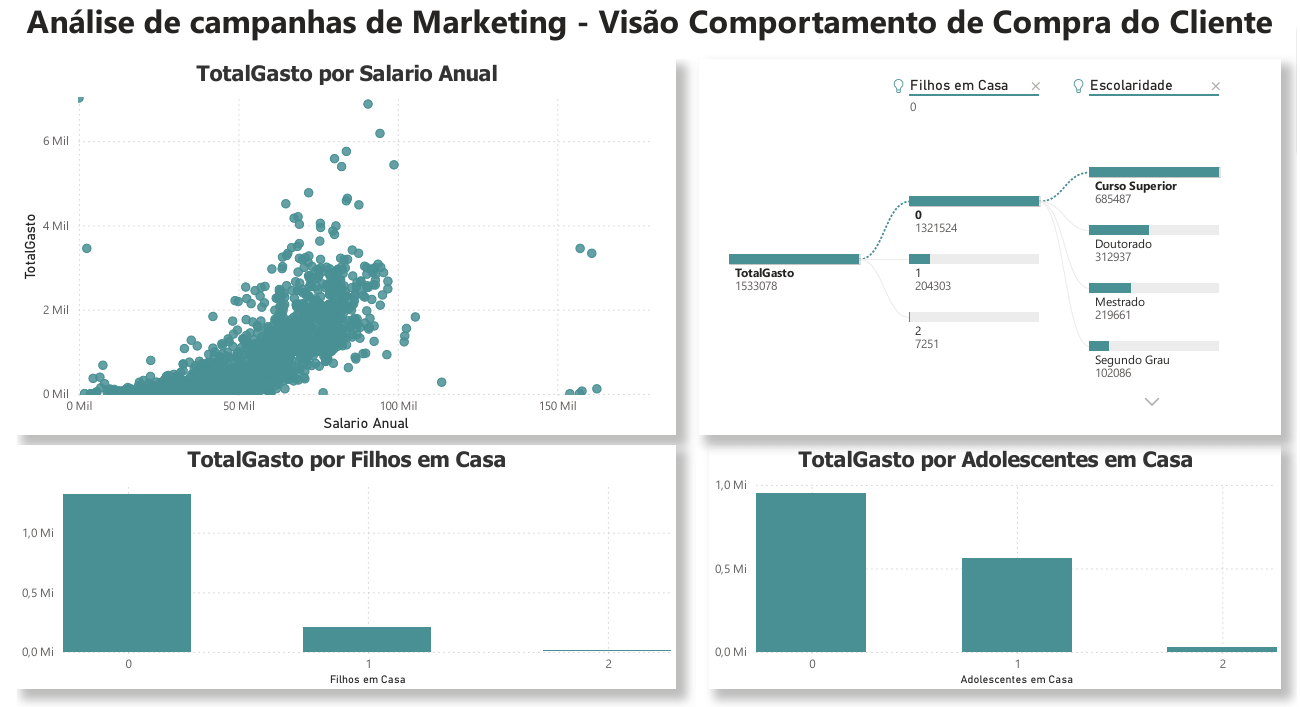

What the dashboard file says about the page in this screenshot:
{"tool":"powerbi","page":{"name":"Visão Comportamento","canvas":[1280,720],"ordinal":1},"visuals":[{"type":"scatterChart","fields":{"Y":["DadosMarketing.TotalGasto"],"X":["DadosMarketing.Salario Anual"]},"box":[0,68.3,660.1,375.8],"z":0},{"type":"clusteredColumnChart","fields":{"Y":["DadosMarketing.TotalGasto"],"Category":["DadosMarketing.Filhos em Casa"]},"box":[0,453.9,660.1,244],"z":1000},{"type":"clusteredColumnChart","fields":{"Y":["DadosMarketing.TotalGasto"],"Category":["DadosMarketing.Adolescentes em Casa"]},"box":[693.1,453.9,572.3,244],"z":2000},{"type":"textbox","box":[0,0,1264.9,67.8],"z":3000},{"type":"decompositionTreeVisual","fields":{"Analyze":["DadosMarketing.TotalGasto"],"ExplainBy":["DadosMarketing.Filhos em Casa","DadosMarketing.Escolaridade"]},"box":[683.3,68.3,582,375.8],"z":4000}]}

Visuals, with their boxes on the page's 1280x720 design canvas (x1, y1, x2, y2). These are canvas units, not pixel positions in the 1300x707 screenshot, which may show the page scaled, cropped or inside an application window:
scatterChart - DadosMarketing.TotalGasto x DadosMarketing.Salario Anual: box(0, 68, 660, 444)
clusteredColumnChart - DadosMarketing.TotalGasto x DadosMarketing.Filhos em Casa: box(0, 454, 660, 698)
clusteredColumnChart - DadosMarketing.TotalGasto x DadosMarketing.Adolescentes em Casa: box(693, 454, 1265, 698)
textbox: box(0, 0, 1265, 68)
decompositionTreeVisual - DadosMarketing.TotalGasto x DadosMarketing.Filhos em Casa: box(683, 68, 1265, 444)
